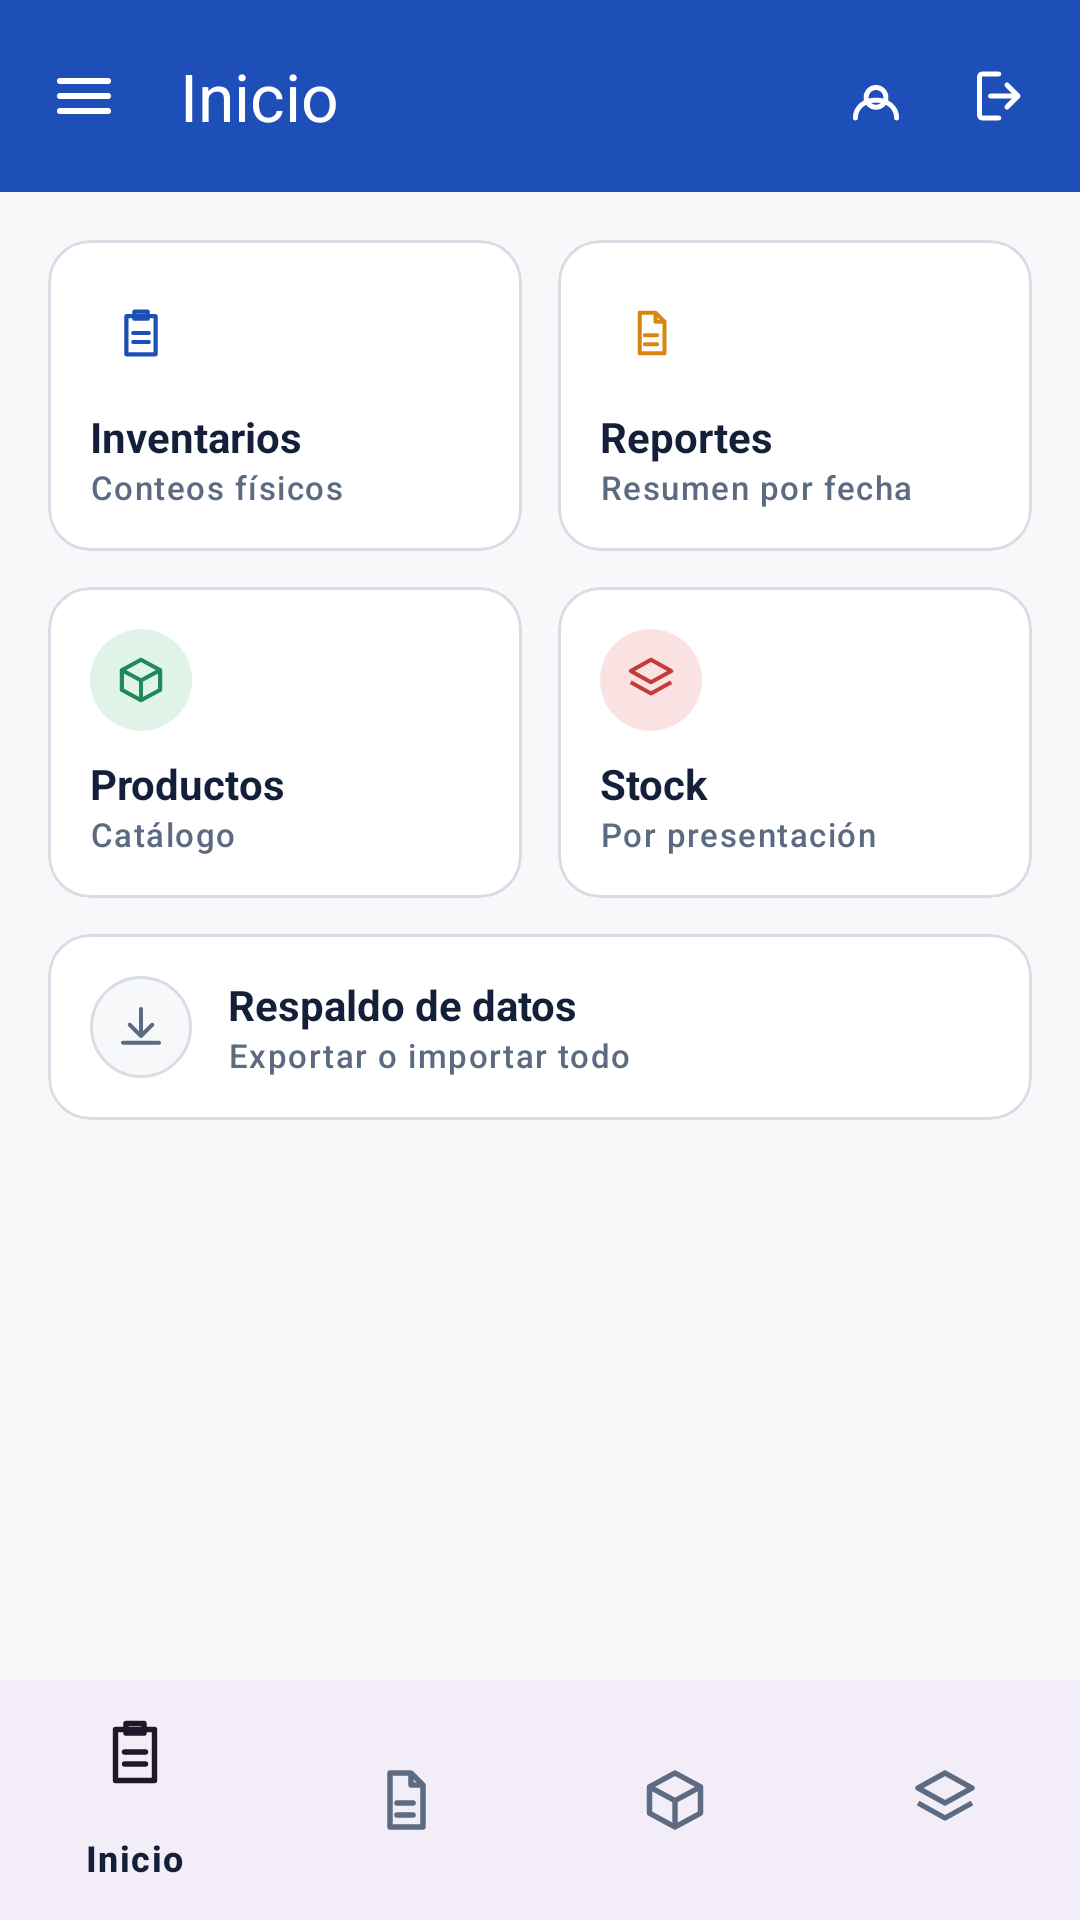

Icon click points for this 1080*1920 phone screenshot, format [x,y]:
box: [141,680]
clipboard: [141,333]
doc: [652,333]
download: [141,1027]
layers: [651,680]
Mi cuenta: [876,103]
